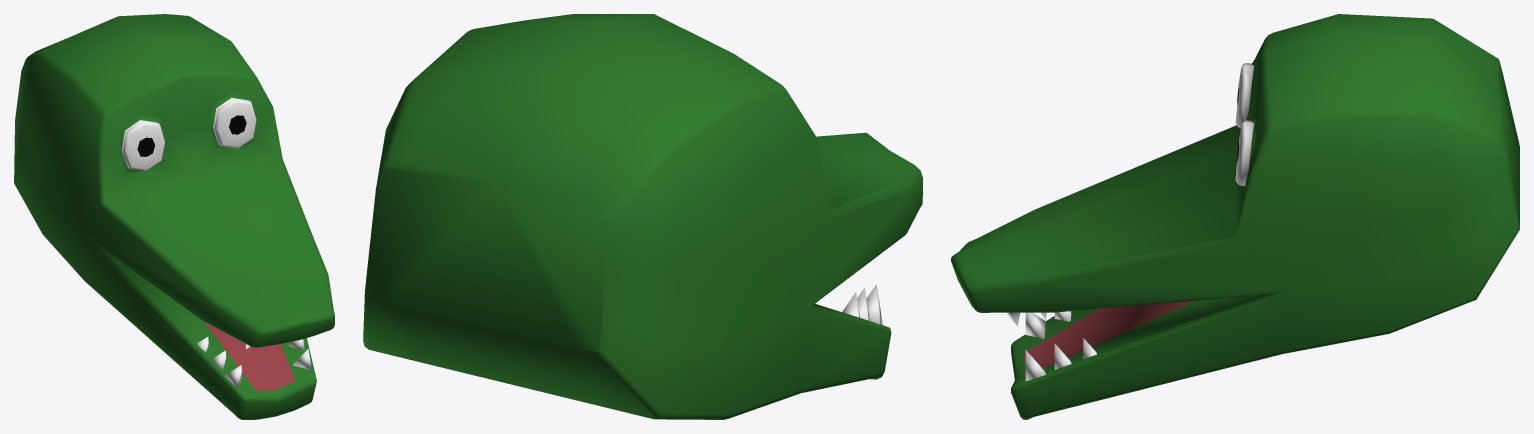
The model's file is AlligatorModel.glb.
3 renders of one model, left to right at view 1: azimuth 30°, elevation 25°; view 2: azimuth 150°, elevation 25°; view 3: azimuth 270°, elevation 25°, orthographic. The views are drawn at different scales.
Visible parts, largest first — view 1: Jacare; view 2: Jacare; view 3: Jacare.
Part boxes in pixels (left/top/right/bottom): Jacare: left=14, top=14, right=334, bottom=419; Jacare: left=363, top=14, right=922, bottom=419; Jacare: left=951, top=14, right=1519, bottom=419.
Bounding box in the file's own units: 0.7324 × 1.03 × 1.43.
